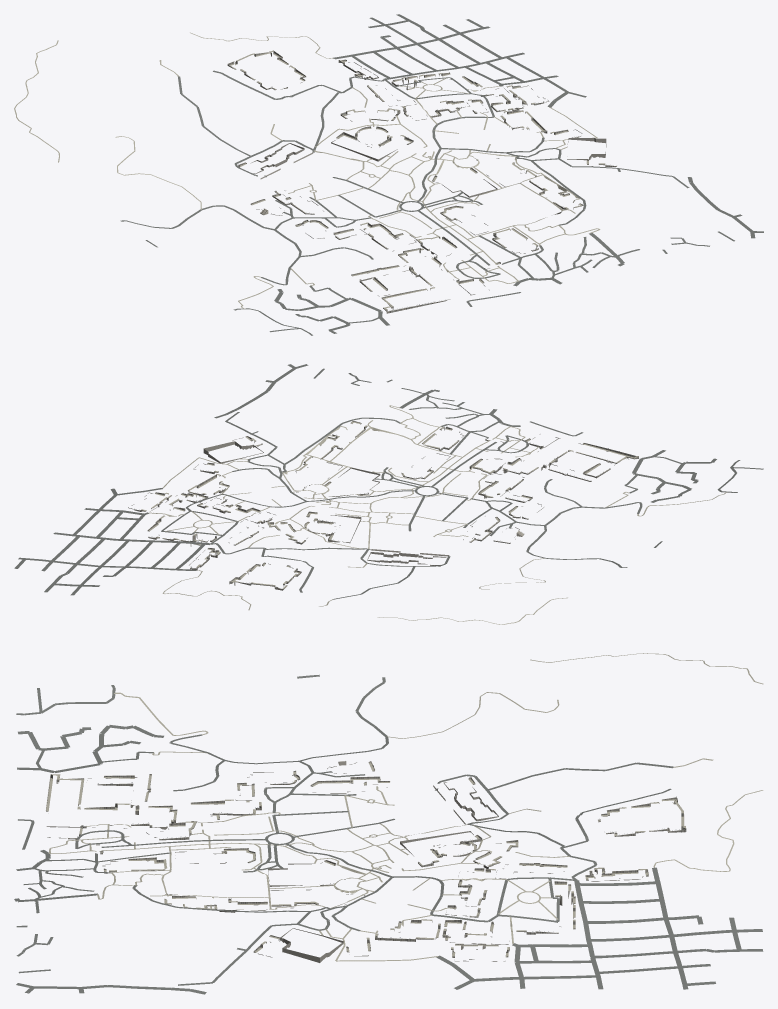
3 views of the same model, one above another, from view 1: azimuth 30°, elevation 25°; view 2: azimuth 150°, elevation 25°; view 3: azimuth 270°, elevation 25° (orthographic). The views are drawn at different scales.
Visible parts, largest first — view 1: khu-asphalt-overlay, khu-paving-overlay, khu-stonebank, khu-paving, site-concrete, site; view 2: khu-asphalt-overlay, khu-paving-overlay, khu-stonebank, khu-paving, site-concrete, site; view 3: khu-asphalt-overlay, khu-paving-overlay, khu-stonebank, khu-paving, site-concrete, site.
Part boxes in pixels (x1,y1,x2,y2): khu-asphalt-overlay: (120,14,763,335); khu-paving-overlay: (14,32,600,308); khu-stonebank: (227,50,616,313); khu-paving: (229,50,616,310); site-concrete: (250,62,606,310); site: (227,51,615,311); khu-asphalt-overlay: (14,364,763,599); khu-paving-overlay: (149,405,726,624); khu-stonebank: (134,421,638,590); khu-paving: (141,421,638,588); site-concrete: (128,430,628,572); site: (134,421,634,588); khu-asphalt-overlay: (14,674,763,994); khu-paving-overlay: (48,653,763,961); khu-stonebank: (46,761,686,957); khu-paving: (46,762,686,956); site-concrete: (46,762,643,962); site: (45,761,684,956).
Size of the model in its own units: 683 by 83.68 by 742.
Materials: 13 (4 with a texture image).
